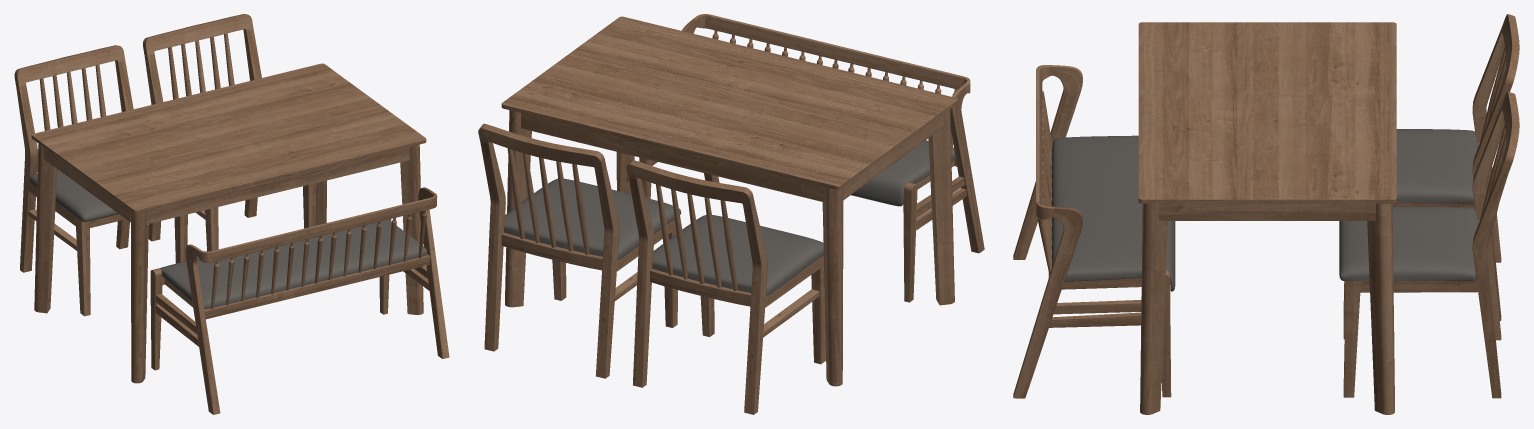
The model's file is MEGA_PACK_Tableset__tableset_462997.glb.
The picture shows the model from 3 angles, left to right: view 1: azimuth 30°, elevation 25°; view 2: azimuth 150°, elevation 25°; view 3: azimuth 270°, elevation 25°; orthographic projection. The views are drawn at different scales.
Parts seen in each view (by area): view 1: tableset_462997; view 2: tableset_462997; view 3: tableset_462997.
Part boxes in pixels (box(x1,y1,x2,y2)): tableset_462997: box(14, 14, 449, 414); tableset_462997: box(478, 14, 984, 414); tableset_462997: box(1013, 14, 1519, 414).
Size of the model in its own units: 1.3 by 0.8402 by 1.57.
Materials: 1 (1 with a texture image).
